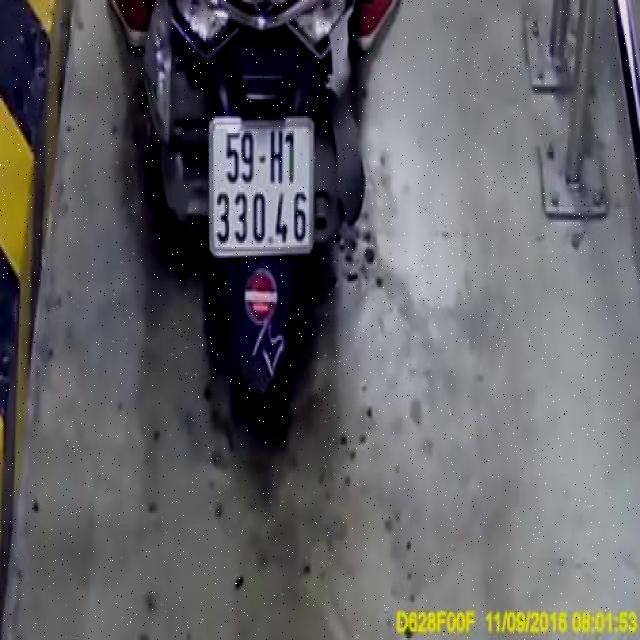0: (250, 188, 268, 249)
1: (283, 126, 302, 189)
3: (214, 186, 231, 247), (231, 188, 249, 242)
4: (273, 189, 289, 245)
5: (221, 126, 241, 188)
6: (291, 188, 309, 246)
9: (238, 127, 257, 185)
H: (267, 124, 287, 189)
